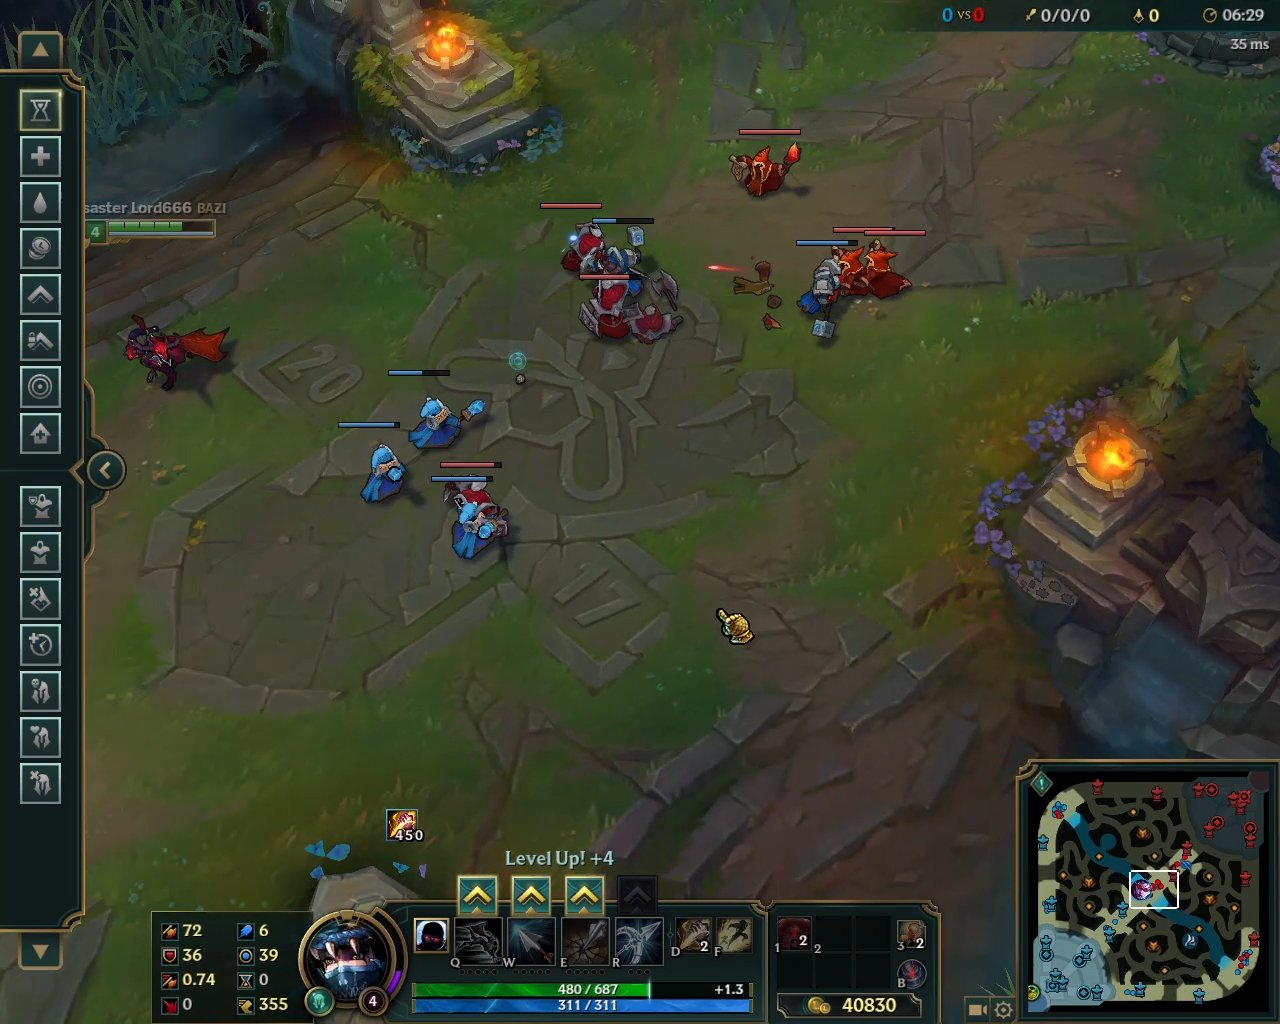EnemyMinion: (833, 228, 928, 303), (727, 126, 802, 205), (541, 204, 620, 276), (576, 272, 639, 346), (435, 463, 506, 515)
Vayne: (112, 308, 245, 396)
